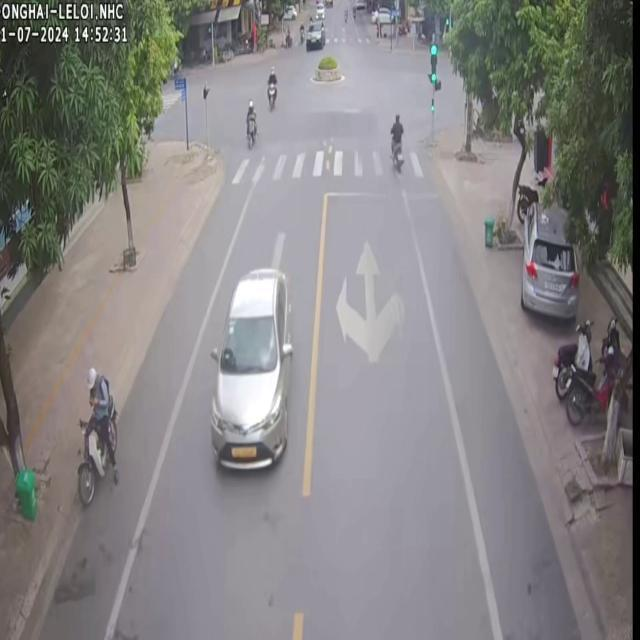car: (209, 267, 290, 467), (519, 200, 577, 317), (304, 18, 324, 49)
green_light: (429, 46, 437, 84)
motobike: (76, 365, 117, 502), (564, 347, 622, 422), (550, 318, 592, 398), (388, 111, 402, 171), (244, 98, 256, 147), (266, 65, 276, 108)
stop_line: (324, 191, 441, 200)
